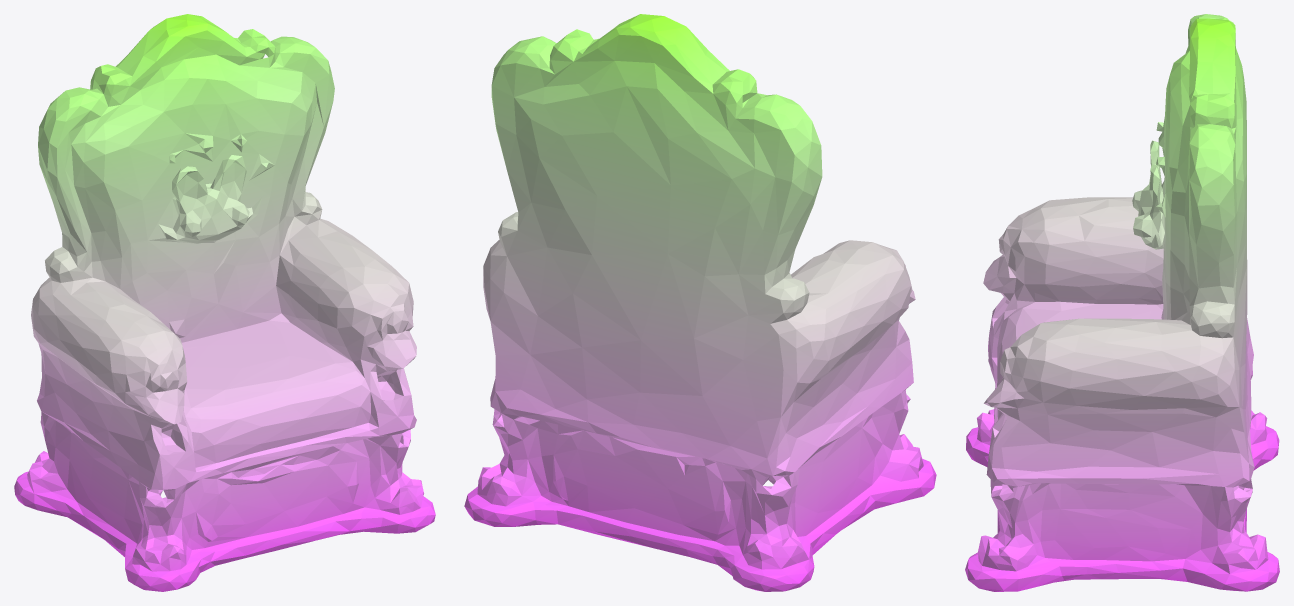
File: 176_cyb_laser_gradient_fish_scales_2999_2026_10_03_cf3296.glb
3 renders of one model, left to right at view 1: azimuth 30°, elevation 25°; view 2: azimuth 150°, elevation 25°; view 3: azimuth 270°, elevation 25°, orthographic. The views are drawn at different scales.
Visible parts, largest first — view 1: geometry_0; view 2: geometry_0; view 3: geometry_0.
Boxes of the visible parts, x1,y1,x2,y2 form: geometry_0: (14, 14, 435, 591); geometry_0: (464, 14, 936, 591); geometry_0: (965, 14, 1279, 591).
Size of the model in its own units: 0.7119 by 1 by 0.5808.
